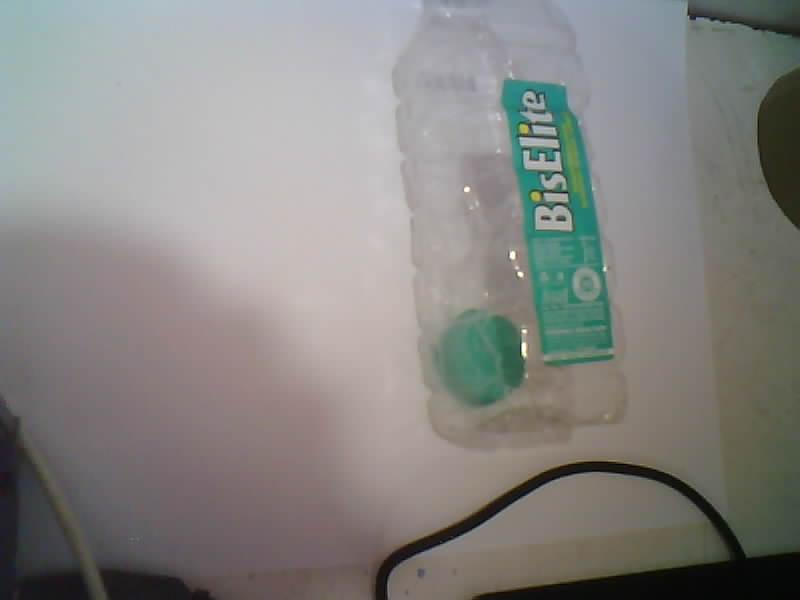non-biodegradable: (393, 0, 624, 447)
